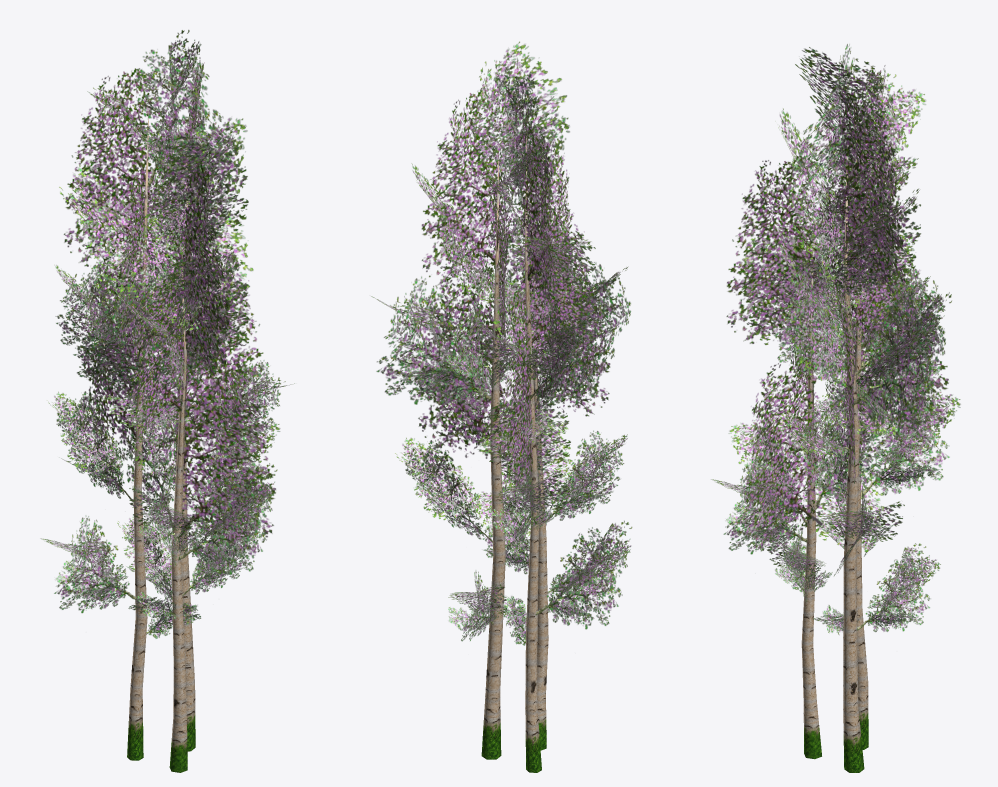
The model's file is fo_s2_birch.glb.
3 views of the same model, side by side, from view 1: azimuth 30°, elevation 25°; view 2: azimuth 150°, elevation 25°; view 3: azimuth 270°, elevation 25° (orthographic). The views are drawn at different scales.
Visible parts, largest first — view 1: FO_S2_birch; view 2: FO_S2_birch; view 3: FO_S2_birch.
Part boxes in pixels (<box>): FO_S2_birch: <box>40,30,294,772</box>; FO_S2_birch: <box>371,41,632,772</box>; FO_S2_birch: <box>711,44,960,772</box>.
Size of the model in its own units: 5.92 by 15.07 by 5.52.
Materials: 6 (6 with a texture image).
